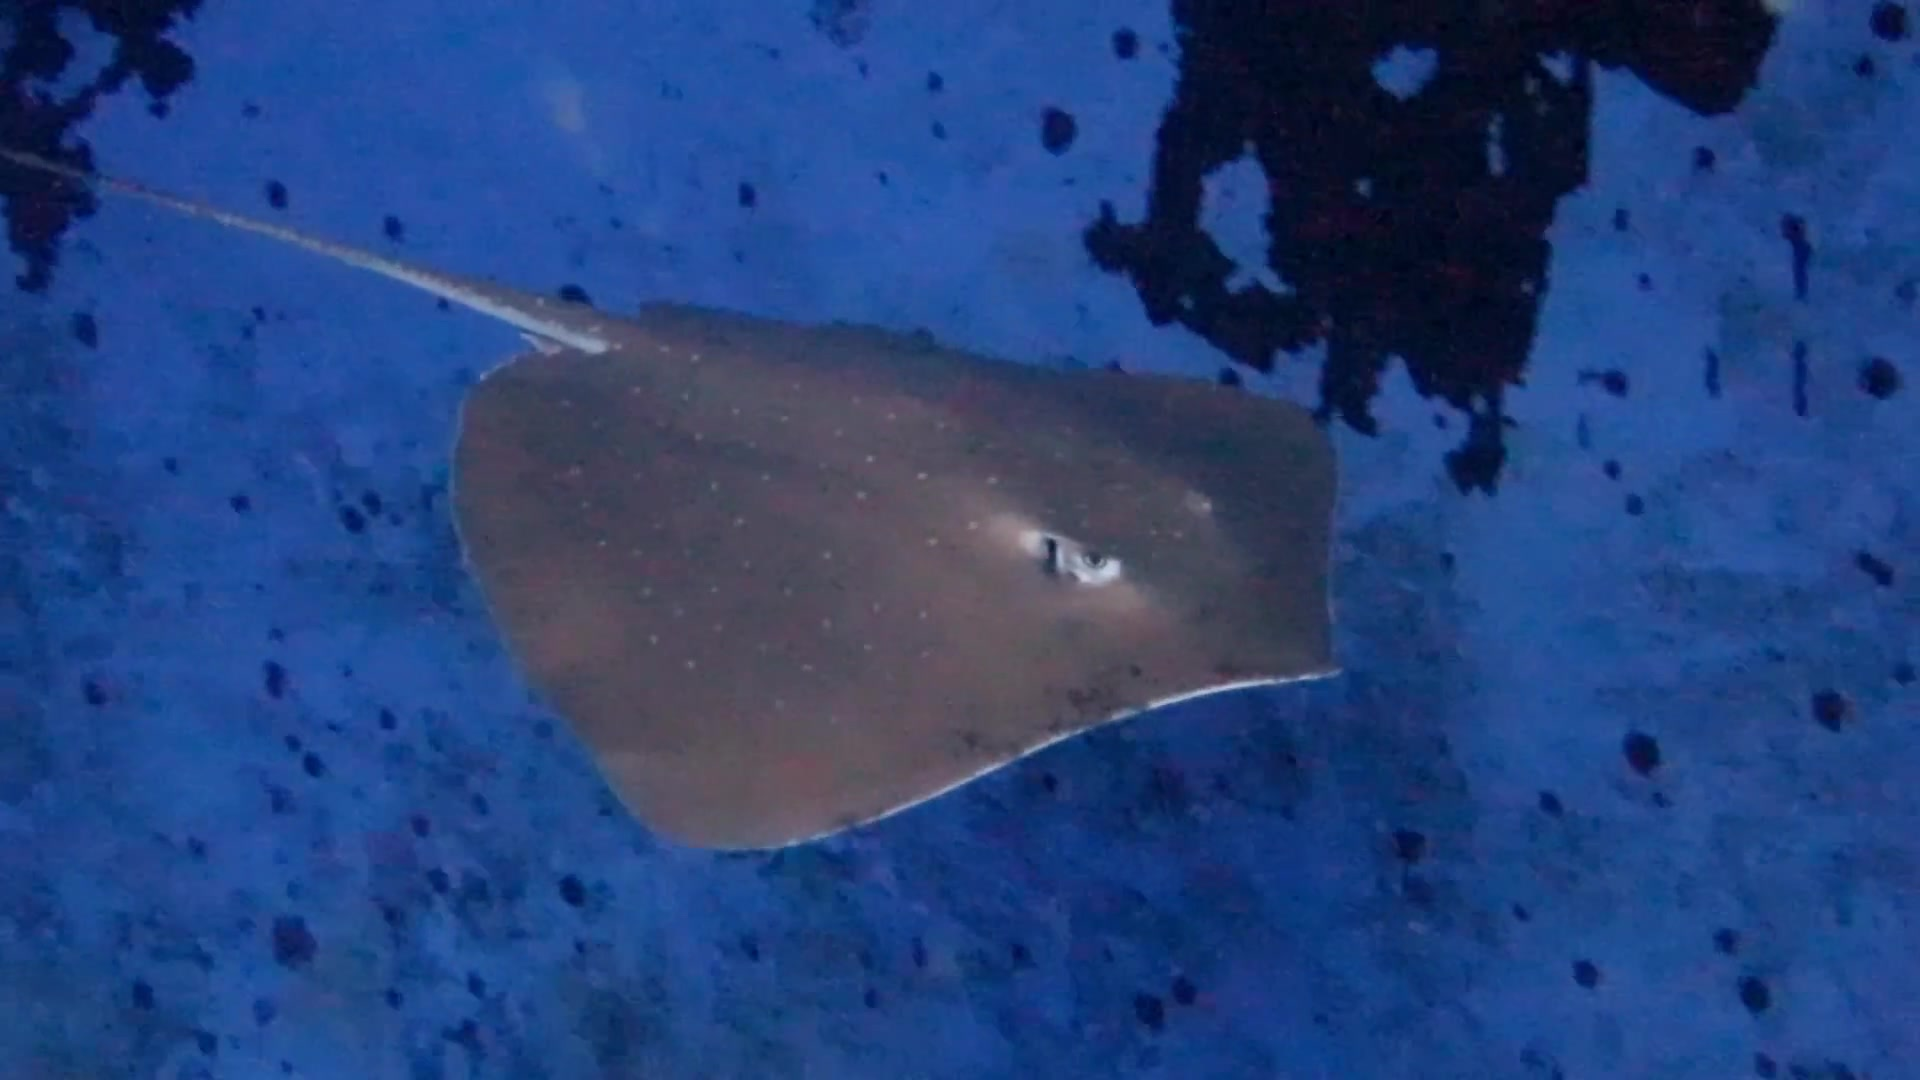Himantura gerrardi: (32, 78, 1481, 898)
